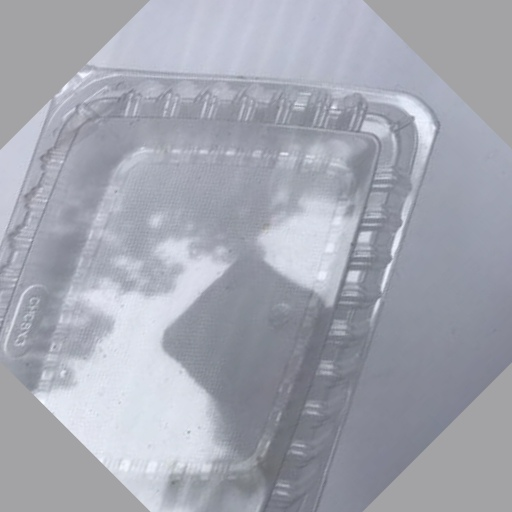Plastic_4: (3, 64, 444, 512)
